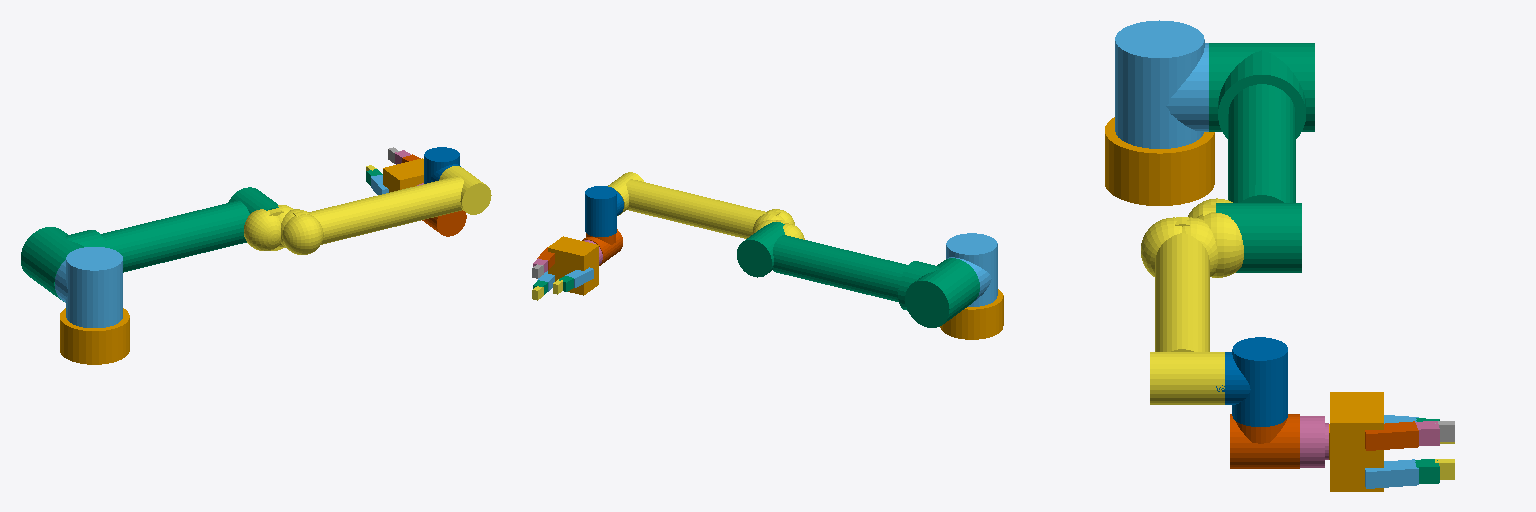
robot.urdf — [local-path]/Desktop/UR10e.urdf:
<?xml version="1.0"?>
<robot name="[local-path]/Desktop/UR10e.urdf" xmlns:xacro="http://ros.org/wiki/xacro">
  <link name="base_link">
    <visual>
      <origin xyz="0 0 0.05" rpy="-3.141592 0 0"/>
      <geometry>
        <cylinder radius="0.095" length="0.1"/>
      </geometry>
    </visual>
    <collision>
      <origin xyz="0 0 0.05" rpy="-3.141592 0 0"/>
      <geometry>
        <cylinder radius="0.095" length="0.1"/>
      </geometry>
    </collision>
  </link>
  <joint name="shoulder_pan_joint" type="revolute">
    <parent link="base_link"/>
    <child link="shoulder_link"/>
    <axis xyz="0 0 1"/>
    <limit effort="330" lower="-6.28319" upper="6.28319" velocity="3.14"/>
    <origin xyz="0 0 0.181" rpy="0 0 -0.000119"/>
  </joint>
  <link name="shoulder_link">
    <visual>
      <origin xyz="0 0 0" rpy="-3.141592 0 0"/>
      <geometry>
        <cylinder radius="0.077" length="0.183"/>
      </geometry>
    </visual>
    <collision>
      <origin xyz="0 0 0" rpy="-3.141592 0 0"/>
      <geometry>
        <cylinder radius="0.077" length="0.183"/>
      </geometry>
    </collision>
    <visual>
      <origin xyz="0 0.05 0" rpy="1.570797 0 0"/>
      <geometry>
        <cylinder radius="0.076" length="0.093"/>
      </geometry>
    </visual>
    <collision>
      <origin xyz="0 0.05 0" rpy="1.570797 0 0"/>
      <geometry>
        <cylinder radius="0.076" length="0.093"/>
      </geometry>
    </collision>
  </link>
  <joint name="shoulder_lift_joint" type="revolute">
    <parent link="shoulder_link"/>
    <child link="upper_arm_link"/>
    <axis xyz="0 1 0"/>
    <limit effort="330" lower="-6.28319" upper="6.28319" velocity="3.14"/>
    <origin xyz="0 0.176 0" rpy="3.141593 1.570654 3.141593"/>
  </joint>
  <link name="upper_arm_link">
    <visual>
      <origin xyz="0 0 0.33" rpy="-3.141592 0 0"/>
      <geometry>
        <cylinder radius="0.058" length="0.463"/>
      </geometry>
    </visual>
    <collision>
      <origin xyz="0 0 0.33" rpy="-3.141592 0 0"/>
      <geometry>
        <cylinder radius="0.058" length="0.463"/>
      </geometry>
    </collision>
    <visual>
      <origin xyz="0 0 0.06" rpy="-3.141592 0 0"/>
      <geometry>
        <cylinder radius="0.076" length="0.1"/>
      </geometry>
    </visual>
    <collision>
      <origin xyz="0 0 0.06" rpy="-3.141592 0 0"/>
      <geometry>
        <cylinder radius="0.076" length="0.1"/>
      </geometry>
    </collision>
    <visual>
      <origin xyz="0 0 0" rpy="-1.570796 0 0"/>
      <geometry>
        <cylinder radius="0.077" length="0.183"/>
      </geometry>
    </visual>
    <collision>
      <origin xyz="0 0 0" rpy="-1.570796 0 0"/>
      <geometry>
        <cylinder radius="0.077" length="0.183"/>
      </geometry>
    </collision>
    <visual>
      <origin xyz="0 -0.005 0.612" rpy="-1.570796 0 0"/>
      <geometry>
        <cylinder radius="0.061" length="0.149"/>
      </geometry>
    </visual>
    <collision>
      <origin xyz="0 -0.005 0.612" rpy="-1.570796 0 0"/>
      <geometry>
        <cylinder radius="0.061" length="0.149"/>
      </geometry>
    </collision>
  </link>
  <joint name="elbow_joint" type="revolute">
    <parent link="upper_arm_link"/>
    <child link="forearm_link"/>
    <axis xyz="0 1 0"/>
    <limit effort="150" lower="-3.14159" upper="3.14159" velocity="3.14"/>
    <origin xyz="0 -0.137 0.613" rpy="0 0.000044 0"/>
  </joint>
  <link name="forearm_link">
    <visual>
      <origin xyz="0 0 0.307" rpy="-3.141592 0 0"/>
      <geometry>
        <cylinder radius="0.047" length="0.49"/>
      </geometry>
    </visual>
    <collision>
      <origin xyz="0 0 0.307" rpy="-3.141592 0 0"/>
      <geometry>
        <cylinder radius="0.047" length="0.49"/>
      </geometry>
    </collision>
    <visual>
      <origin xyz="0 0.009 0.57" rpy="-1.570796 0 0"/>
      <geometry>
        <cylinder radius="0.046" length="0.129"/>
      </geometry>
    </visual>
    <collision>
      <origin xyz="0 0.009 0.57" rpy="-1.570796 0 0"/>
      <geometry>
        <cylinder radius="0.046" length="0.129"/>
      </geometry>
    </collision>
    <visual>
      <origin xyz="0 0.06 0" rpy="-1.570796 0 0"/>
      <geometry>
        <cylinder radius="0.058" length="0.05"/>
      </geometry>
    </visual>
    <collision>
      <origin xyz="0 0.06 0" rpy="-1.570796 0 0"/>
      <geometry>
        <cylinder radius="0.058" length="0.05"/>
      </geometry>
    </collision>
    <visual>
      <origin xyz="0 0.06 -0.025" rpy="-1.570796 0 0"/>
      <geometry>
        <sphere radius="0.058"/>
      </geometry>
    </visual>
    <collision>
      <origin xyz="0 0.06 -0.025" rpy="-1.570796 0 0"/>
      <geometry>
        <sphere radius="0.058"/>
      </geometry>
    </collision>
    <visual>
      <origin xyz="0 0.06 0.025" rpy="-1.570796 0 0"/>
      <geometry>
        <sphere radius="0.058"/>
      </geometry>
    </visual>
    <collision>
      <origin xyz="0 0.06 0.025" rpy="-1.570796 0 0"/>
      <geometry>
        <sphere radius="0.058"/>
      </geometry>
    </collision>
    <visual>
      <origin xyz="0 0 0.05" rpy="0 0 0"/>
      <geometry>
        <cylinder radius="0.057" length="0.03"/>
      </geometry>
    </visual>
    <collision>
      <origin xyz="0 0 0.05" rpy="0 0 0"/>
      <geometry>
        <cylinder radius="0.057" length="0.03"/>
      </geometry>
    </collision>
    <visual>
      <origin xyz="0 0.015 0.05" rpy="0 0 0"/>
      <geometry>
        <sphere radius="0.057"/>
      </geometry>
    </visual>
    <collision>
      <origin xyz="0 0.015 0.05" rpy="0 0 0"/>
      <geometry>
        <sphere radius="0.057"/>
      </geometry>
    </collision>
    <visual>
      <origin xyz="0 -0.015 0.05" rpy="0 0 0"/>
      <geometry>
        <sphere radius="0.057"/>
      </geometry>
    </visual>
    <collision>
      <origin xyz="0 -0.015 0.05" rpy="0 0 0"/>
      <geometry>
        <sphere radius="0.057"/>
      </geometry>
    </collision>
  </link>
  <joint name="wrist_1_joint" type="revolute">
    <parent link="forearm_link"/>
    <child link="wrist_1_link"/>
    <axis xyz="0 1 0"/>
    <limit effort="54" lower="-6.28319" upper="6.28319" velocity="6.28"/>
    <origin xyz="0 0 0.571" rpy="0 1.570796 0"/>
  </joint>
  <link name="wrist_1_link">
    <visual>
      <origin xyz="0 0.095 0" rpy="-1.570796 0 0"/>
      <geometry>
        <cylinder radius="0.045" length="0.075"/>
      </geometry>
    </visual>
    <collision>
      <origin xyz="0 0.095 0" rpy="-1.570796 0 0"/>
      <geometry>
        <cylinder radius="0.045" length="0.075"/>
      </geometry>
    </collision>
    <visual>
      <origin xyz="0 0.134 0.007" rpy="-3.141592 0 0"/>
      <geometry>
        <cylinder radius="0.048" length="0.126"/>
      </geometry>
    </visual>
    <collision>
      <origin xyz="0 0.134 0.007" rpy="-3.141592 0 0"/>
      <geometry>
        <cylinder radius="0.048" length="0.126"/>
      </geometry>
    </collision>
  </link>
  <joint name="wrist_2_joint" type="revolute">
    <parent link="wrist_1_link"/>
    <child link="wrist_2_link"/>
    <axis xyz="0 0 1"/>
    <limit effort="54" lower="-6.28319" upper="6.28319" velocity="6.28"/>
    <origin xyz="0 0.135 0" rpy="0 0 0"/>
  </joint>
  <link name="wrist_2_link">
    <visual>
      <origin xyz="0 0.007 0.1195" rpy="-1.570796 0 0"/>
      <geometry>
        <cylinder radius="0.047" length="0.12"/>
      </geometry>
    </visual>
    <collision>
      <origin xyz="0 0.007 0.1195" rpy="-1.570796 0 0"/>
      <geometry>
        <cylinder radius="0.047" length="0.12"/>
      </geometry>
    </collision>
    <visual>
      <origin xyz="0 0 0.0805" rpy="-3.141592 0 0"/>
      <geometry>
        <cylinder radius="0.046" length="0.043"/>
      </geometry>
    </visual>
    <collision>
      <origin xyz="0 0 0.0805" rpy="-3.141592 0 0"/>
      <geometry>
        <cylinder radius="0.046" length="0.043"/>
      </geometry>
    </collision>
  </link>
  <joint name="wrist_3_joint" type="revolute">
    <parent link="wrist_2_link"/>
    <child link="wrist_3_link"/>
    <axis xyz="0 1 0"/>
    <limit effort="54" lower="-6.28319" upper="6.28319" velocity="6.28"/>
    <origin xyz="0 0 0.12" rpy="0 0.000003 0"/>
  </joint>
  <link name="wrist_3_link">
    <visual>
      <origin xyz="0 0.086 0" rpy="-1.570796 0 0"/>
      <geometry>
        <cylinder radius="0.045" length="0.048"/>
      </geometry>
    </visual>
    <collision>
      <origin xyz="0 0.086 0" rpy="-1.570796 0 0"/>
      <geometry>
        <cylinder radius="0.045" length="0.048"/>
      </geometry>
    </collision>
    <visual>
      <origin xyz="0 0.109 0" rpy="-1.570796 0 0"/>
      <geometry>
        <cylinder radius="0.032" length="0.018"/>
      </geometry>
    </visual>
    <collision>
      <origin xyz="0 0.109 0" rpy="-1.570796 0 0"/>
      <geometry>
        <cylinder radius="0.032" length="0.018"/>
      </geometry>
    </collision>
  </link>
  <link name="distance_sensor">
  </link>
  <joint name="wrist_3_link_distance_sensor_joint" type="fixed">
    <parent link="wrist_3_link"/>
    <child link="distance_sensor"/>
    <origin xyz="0 0.22 0" rpy="0 0 1.570796"/>
  </joint>
  <link name="ROBOTIQ 3f Gripper">
    <visual>
      <origin xyz="0 -0.029 0" rpy="0 0 0"/>
      <geometry>
        <cylinder radius="0.023" length="0.05"/>
      </geometry>
    </visual>
    <collision>
      <origin xyz="0 -0.029 0" rpy="0 0 0"/>
      <geometry>
        <cylinder radius="0.023" length="0.05"/>
      </geometry>
    </collision>
    <visual>
      <origin xyz="0 0.005 0" rpy="0 0 0"/>
      <geometry>
        <box size="0.126 0.093 0.13"/>
      </geometry>
    </visual>
    <collision>
      <origin xyz="0 0.005 0" rpy="0 0 0"/>
      <geometry>
        <box size="0.126 0.093 0.13"/>
      </geometry>
    </collision>
  </link>
  <joint name="wrist_3_link_ROBOTIQ 3f Gripper_joint" type="fixed">
    <parent link="wrist_3_link"/>
    <child link="ROBOTIQ 3f Gripper"/>
    <origin xyz="0 0.16 0" rpy="0 0 0"/>
  </joint>
  <joint name="finger_middle_joint_1" type="revolute">
    <parent link="ROBOTIQ 3f Gripper"/>
    <child link="finger_middle_link_1"/>
    <axis xyz="0 0 1"/>
    <limit effort="100" lower="0.0495" upper="1.2218" velocity="100"/>
    <origin xyz="0.045516 0.0414 0" rpy="0 0 1.57"/>
  </joint>
  <link name="finger_middle_link_1">
    <visual>
      <origin xyz="0.01231 -0.02039 0" rpy="0 0 -0.467371"/>
      <geometry>
        <box size="0.091 0.038 0.032"/>
      </geometry>
    </visual>
    <collision>
      <origin xyz="0.01231 -0.02039 0" rpy="0 0 -0.467371"/>
      <geometry>
        <box size="0.091 0.038 0.032"/>
      </geometry>
    </collision>
  </link>
  <joint name="finger_middle_joint_2" type="revolute">
    <parent link="finger_middle_link_1"/>
    <child link="finger_middle_link_2"/>
    <axis xyz="0 0 1"/>
    <limit effort="100" lower="0" upper="1.5708" velocity="100"/>
    <origin xyz="0.05 -0.028 0" rpy="0 0 -0.52"/>
  </joint>
  <link name="finger_middle_link_2">
    <visual>
      <origin xyz="0.02694 -0.008952 0" rpy="0 0 -0.012556"/>
      <geometry>
        <box size="0.04 0.032 0.032"/>
      </geometry>
    </visual>
    <collision>
      <origin xyz="0.02694 -0.008952 0" rpy="0 0 -0.012556"/>
      <geometry>
        <box size="0.04 0.032 0.032"/>
      </geometry>
    </collision>
  </link>
  <joint name="finger_middle_joint_3" type="revolute">
    <parent link="finger_middle_link_2"/>
    <child link="finger_middle_link_3"/>
    <axis xyz="0 0 1"/>
    <limit effort="100" lower="-1.2217" upper="-0.0523" velocity="100"/>
    <origin xyz="0.039 0 0" rpy="0 0 0"/>
  </joint>
  <link name="finger_middle_link_3">
    <visual>
      <origin xyz="0.018 0.00913 0" rpy="0 0 0.520259"/>
      <geometry>
        <box size="0.035 0.018 0.032"/>
      </geometry>
    </visual>
    <collision>
      <origin xyz="0.018 0.00913 0" rpy="0 0 0.520259"/>
      <geometry>
        <box size="0.035 0.018 0.032"/>
      </geometry>
    </collision>
  </link>
  <joint name="palm_finger_2_joint" type="revolute">
    <parent link="ROBOTIQ 3f Gripper"/>
    <child link="finger_2_link_0"/>
    <axis xyz="0 1 -0.000007"/>
    <limit effort="100" lower="-0.192" upper="0.1784" velocity="100"/>
    <origin xyz="-0.0455 0.0214 -0.036" rpy="3.141592 -0.000008 1.571593"/>
  </joint>
  <link name="finger_2_link_0">
    <visual>
      <origin xyz="0.007 0.006 0" rpy="0 0 0"/>
      <geometry>
        <box size="0.04 0.04 0.032"/>
      </geometry>
    </visual>
    <collision>
      <origin xyz="0.007 0.006 0" rpy="0 0 0"/>
      <geometry>
        <box size="0.04 0.04 0.032"/>
      </geometry>
    </collision>
  </link>
  <joint name="finger_2_joint_1" type="revolute">
    <parent link="finger_2_link_0"/>
    <child link="finger_2_link_1"/>
    <axis xyz="0 0 1"/>
    <limit effort="100" lower="0.0495" upper="1.2218" velocity="100"/>
    <origin xyz="0.02 0 0" rpy="0 0 0"/>
  </joint>
  <link name="finger_2_link_1">
    <visual>
      <origin xyz="0.012315 -0.02039 0" rpy="0 0 -0.467371"/>
      <geometry>
        <box size="0.091 0.038 0.032"/>
      </geometry>
    </visual>
    <collision>
      <origin xyz="0.012315 -0.02039 0" rpy="0 0 -0.467371"/>
      <geometry>
        <box size="0.091 0.038 0.032"/>
      </geometry>
    </collision>
  </link>
  <joint name="finger_2_joint_2" type="revolute">
    <parent link="finger_2_link_1"/>
    <child link="finger_2_link_2"/>
    <axis xyz="0 0 1"/>
    <limit effort="100" lower="0" upper="1.5708" velocity="100"/>
    <origin xyz="0.05 -0.028 0" rpy="0 0 -0.52"/>
  </joint>
  <link name="finger_2_link_2">
    <visual>
      <origin xyz="0.02694 -0.00895 0" rpy="0 0 -0.012556"/>
      <geometry>
        <box size="0.04 0.032 0.032"/>
      </geometry>
    </visual>
    <collision>
      <origin xyz="0.02694 -0.00895 0" rpy="0 0 -0.012556"/>
      <geometry>
        <box size="0.04 0.032 0.032"/>
      </geometry>
    </collision>
  </link>
  <joint name="finger_2_joint_3" type="revolute">
    <parent link="finger_2_link_2"/>
    <child link="finger_2_link_3"/>
    <axis xyz="0 0 1"/>
    <limit effort="100" lower="-1.2217" upper="-0.0523" velocity="100"/>
    <origin xyz="0.039 0 0" rpy="0 0 0"/>
  </joint>
  <link name="finger_2_link_3">
    <visual>
      <origin xyz="0.018 0.00913 0" rpy="0 0 0.520259"/>
      <geometry>
        <box size="0.035 0.018 0.032"/>
      </geometry>
    </visual>
    <collision>
      <origin xyz="0.018 0.00913 0" rpy="0 0 0.520259"/>
      <geometry>
        <box size="0.035 0.018 0.032"/>
      </geometry>
    </collision>
  </link>
  <joint name="palm_finger_1_joint" type="revolute">
    <parent link="ROBOTIQ 3f Gripper"/>
    <child link="finger_1_link_0"/>
    <axis xyz="0 1 -0.000007"/>
    <limit effort="100" lower="-0.1784" upper="0.192" velocity="100"/>
    <origin xyz="-0.0455 0.0214 0.036" rpy="3.141592 -0.000008 1.571593"/>
  </joint>
  <link name="finger_1_link_0">
    <visual>
      <origin xyz="0.007 0.006 0" rpy="0 0 0"/>
      <geometry>
        <box size="0.04 0.04 0.032"/>
      </geometry>
    </visual>
    <collision>
      <origin xyz="0.007 0.006 0" rpy="0 0 0"/>
      <geometry>
        <box size="0.04 0.04 0.032"/>
      </geometry>
    </collision>
  </link>
  <joint name="finger_1_joint_1" type="revolute">
    <parent link="finger_1_link_0"/>
    <child link="finger_1_link_1"/>
    <axis xyz="0 0 1"/>
    <limit effort="100" lower="0.0495" upper="1.2218" velocity="100"/>
    <origin xyz="0.02 0 0" rpy="0 0 0"/>
  </joint>
  <link name="finger_1_link_1">
    <visual>
      <origin xyz="0.012316 -0.02039 0" rpy="0 0 -0.467371"/>
      <geometry>
        <box size="0.091 0.038 0.032"/>
      </geometry>
    </visual>
    <collision>
      <origin xyz="0.012316 -0.02039 0" rpy="0 0 -0.467371"/>
      <geometry>
        <box size="0.091 0.038 0.032"/>
      </geometry>
    </collision>
  </link>
  <joint name="finger_1_joint_2" type="revolute">
    <parent link="finger_1_link_1"/>
    <child link="finger_1_link_2"/>
    <axis xyz="0 0 1"/>
    <limit effort="100" lower="0" upper="1.5708" velocity="100"/>
    <origin xyz="0.05 -0.028 0" rpy="0 0 -0.52"/>
  </joint>
  <link name="finger_1_link_2">
    <visual>
      <origin xyz="0.02694 -0.00895 0" rpy="0 0 -0.012556"/>
      <geometry>
        <box size="0.04 0.032 0.032"/>
      </geometry>
    </visual>
    <collision>
      <origin xyz="0.02694 -0.00895 0" rpy="0 0 -0.012556"/>
      <geometry>
        <box size="0.04 0.032 0.032"/>
      </geometry>
    </collision>
  </link>
  <joint name="finger_1_joint_3" type="revolute">
    <parent link="finger_1_link_2"/>
    <child link="finger_1_link_3"/>
    <axis xyz="0 0 1"/>
    <limit effort="100" lower="-1.2217" upper="-0.0523" velocity="100"/>
    <origin xyz="0.039 0 0" rpy="0 0 0"/>
  </joint>
  <link name="finger_1_link_3">
    <visual>
      <origin xyz="0.018004 0.009133 0" rpy="0 0 0.520259"/>
      <geometry>
        <box size="0.035 0.018 0.032"/>
      </geometry>
    </visual>
    <collision>
      <origin xyz="0.018004 0.009133 0" rpy="0 0 0.520259"/>
      <geometry>
        <box size="0.035 0.018 0.032"/>
      </geometry>
    </collision>
  </link>
</robot>

--- What the picture shows (computed from the rendered views, not written in the file) ---
The picture shows the robot from 3 angles, left to right: view 1: azimuth 30°, elevation 25°; view 2: azimuth 150°, elevation 25°; view 3: azimuth 270°, elevation 25°; orthographic projection.
Model [local-path]/Desktop/UR10e.urdf with 20 links and 19 joints (17 revolute, 2 fixed), rooted at base_link, posed all joints at 0 but 6 set to mid-range because 0 is outside their limits (finger_middle_joint_1 = 0.6357, finger_middle_joint_3 = -0.637, finger_2_joint_1 = 0.6357, finger_2_joint_3 = -0.637, finger_1_joint_1 = 0.6357, finger_1_joint_3 = -0.637).
Links seen in each view (by area): view 1: forearm_link, upper_arm_link, shoulder_link, base_link, ROBOTIQ 3f Gripper, wrist_1_link, wrist_2_link; view 2: upper_arm_link, forearm_link, shoulder_link, ROBOTIQ 3f Gripper, base_link, wrist_1_link, wrist_2_link; view 3: upper_arm_link, forearm_link, shoulder_link, base_link, wrist_1_link, ROBOTIQ 3f Gripper, wrist_2_link, wrist_3_link, finger_2_link_1, finger_1_link_1, finger_2_link_2, finger_1_link_2.
Boxes of the visible links, x1,y1,x2,y2 form: forearm_link: (244,166,491,254); upper_arm_link: (21,187,278,301); shoulder_link: (55,247,122,327); base_link: (60,308,129,364); ROBOTIQ 3f Gripper: (383,158,423,192); wrist_1_link: (424,147,460,183); wrist_2_link: (422,210,466,236); upper_arm_link: (737,222,979,327); forearm_link: (608,172,804,239); shoulder_link: (946,233,997,306); ROBOTIQ 3f Gripper: (548,236,598,295); base_link: (940,289,1003,339); wrist_1_link: (585,186,623,236); wrist_2_link: (582,229,622,265); upper_arm_link: (1209,43,1314,272); forearm_link: (1141,198,1243,404); shoulder_link: (1115,20,1208,148); base_link: (1105,117,1214,205); wrist_1_link: (1216,337,1287,426); ROBOTIQ 3f Gripper: (1329,392,1383,491); wrist_2_link: (1230,414,1299,468); wrist_3_link: (1300,416,1328,467); finger_2_link_1: (1365,421,1418,450); finger_1_link_1: (1365,459,1418,488); finger_2_link_2: (1415,421,1439,445); finger_1_link_2: (1415,459,1439,483).
Size in the robot's own frame: 1.36 by 0.6035 by 0.2767 metres.
Geometry: primitives only (box / cylinder / sphere), no mesh files.
